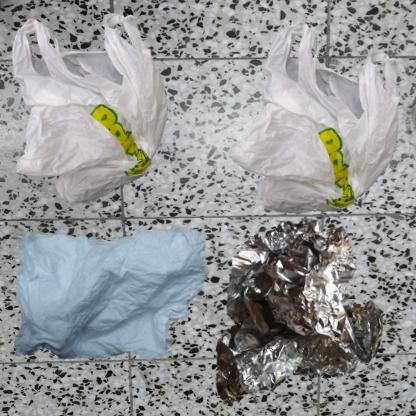aluminio: (213, 213, 388, 412)
bolsa: (213, 10, 416, 275), (10, 10, 172, 209)
papel: (10, 213, 216, 372)
